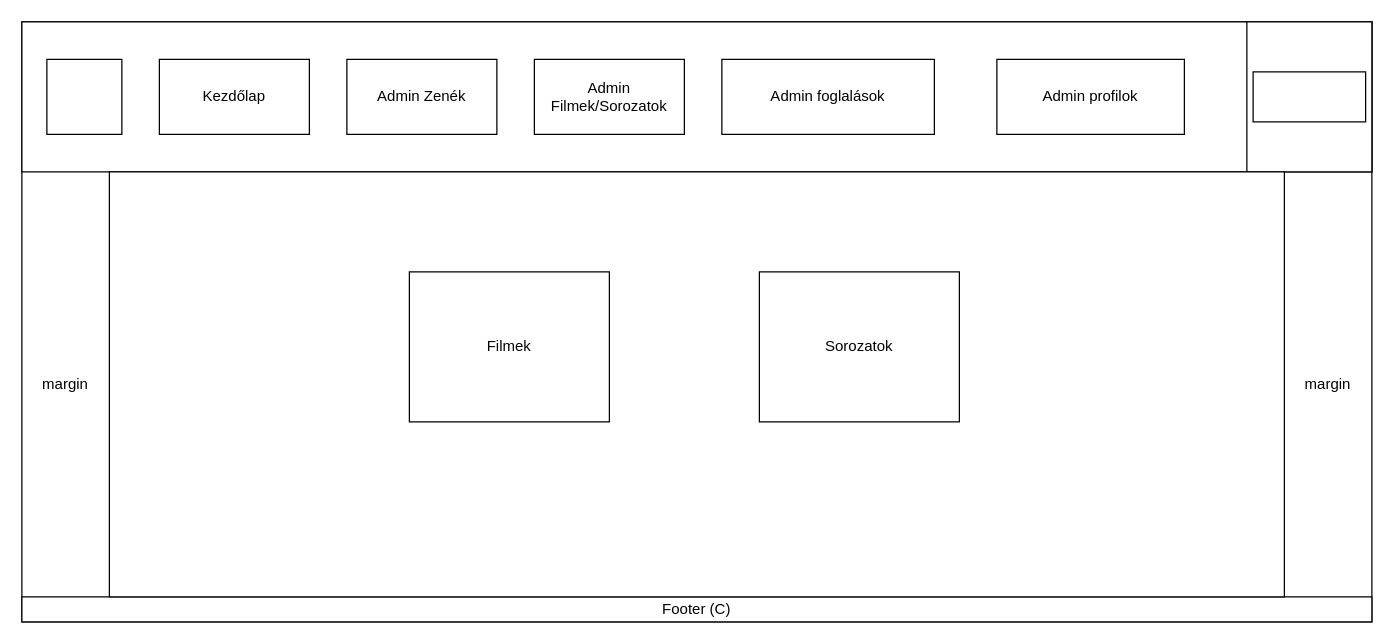
Some shapes in this 1394 by 644 pixel diagram are drawn without their labels. The shapes that lost their labels are listed below. From the top down, each one's centre as x and y in pixels, then its label:
At point (84, 96): "Logo".
At point (1309, 96): "ADMIN".
